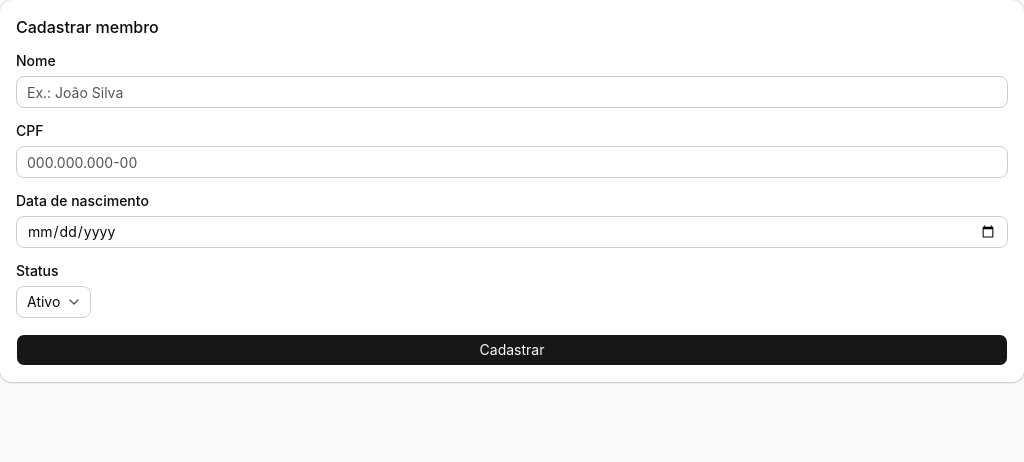
MemberForm › should show validation error when CPF is invalid
In the field labelled "Nome": (512, 92) [16,76,1008,108], type "João Silva"
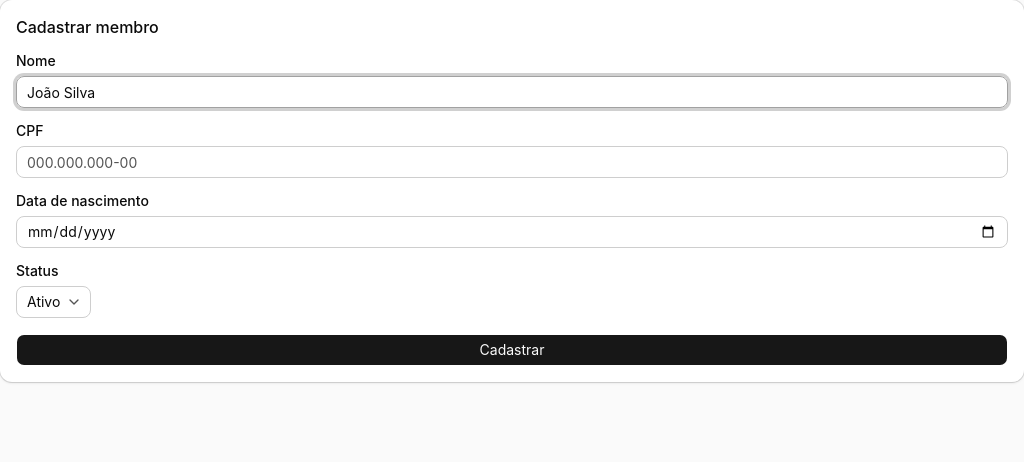
In the field labelled "CPF": (512, 162) [16,146,1008,178], type "11111111111"
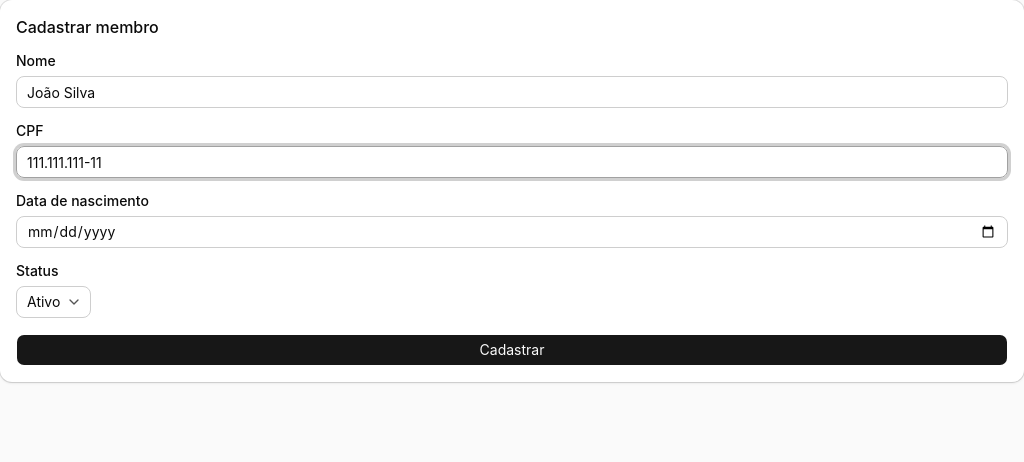
In the date field labelled "Data de nascimento": (512, 232) [16,216,1008,248], type "2000-05-10"
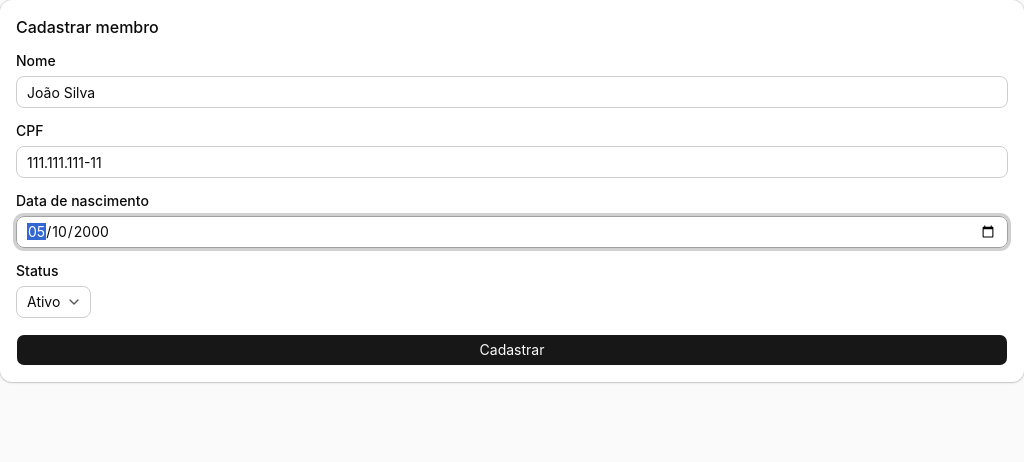
Click the button "Cadastrar": (512, 350) [16,334,1008,366]
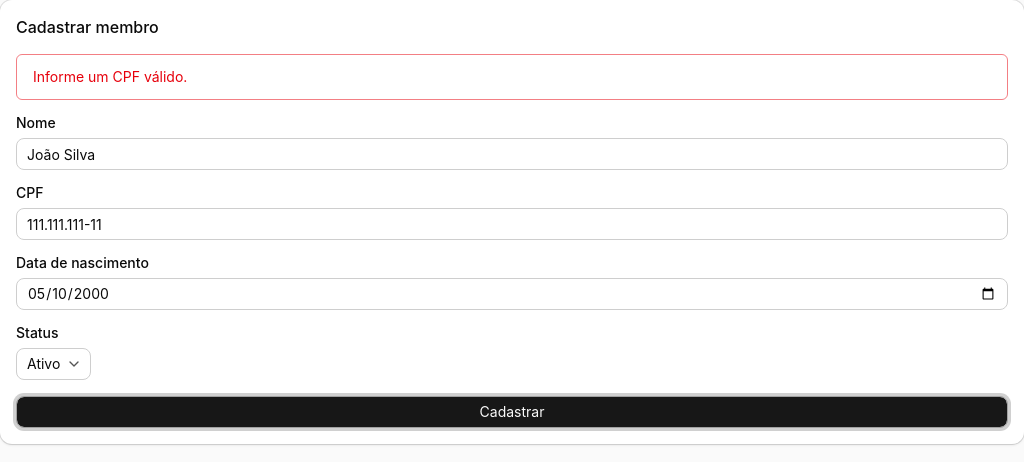
Result: the text "Informe um CPF válido." is shown at [16,54,1008,100]
